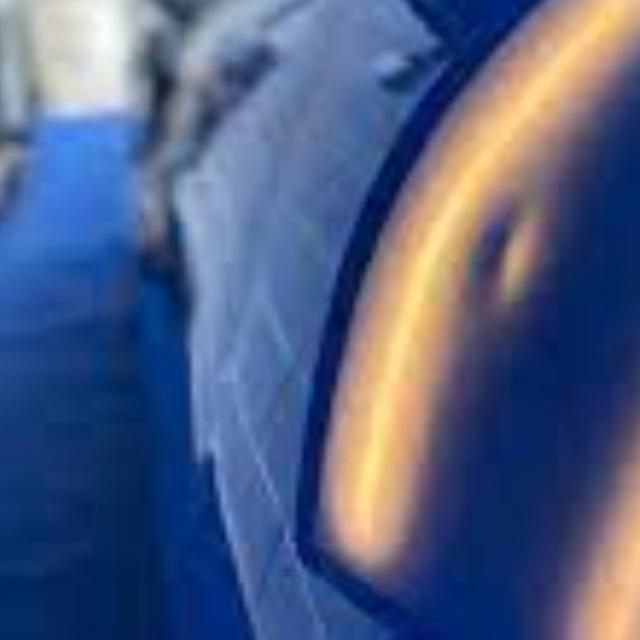dents: (421, 187, 583, 344)
